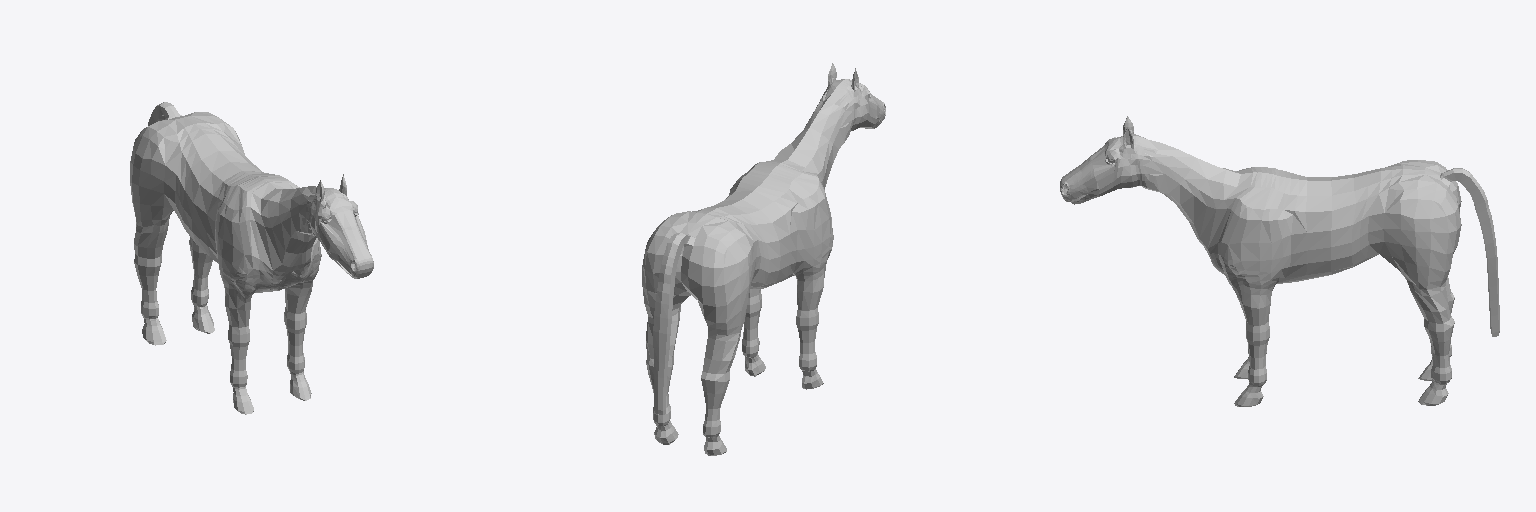
Rendered from horse.obj.
3 views of the same model, side by side, from view 1: azimuth 30°, elevation 25°; view 2: azimuth 150°, elevation 25°; view 3: azimuth 270°, elevation 25° (orthographic).
Visible parts, largest first — view 1: Plane.001_Plane; view 2: Plane.001_Plane; view 3: Plane.001_Plane.
Part boxes in pixels (left/top/right/bottom): Plane.001_Plane: left=130, top=102, right=373, bottom=414; Plane.001_Plane: left=642, top=63, right=885, bottom=455; Plane.001_Plane: left=1060, top=116, right=1499, bottom=406.
Bounding box in the file's own units: 8.92 × 23.3 × 34.58.